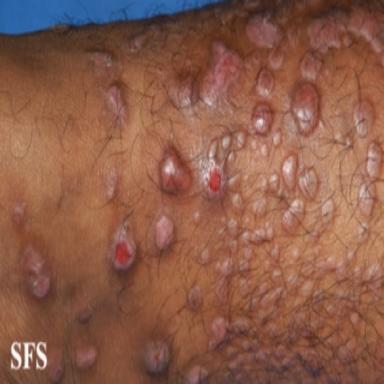Epidermolysis-Bullosa-Pruriginosa: (184, 138, 384, 382), (169, 41, 260, 108), (307, 7, 384, 66), (199, 130, 247, 199), (88, 50, 127, 127), (246, 8, 284, 69), (108, 215, 137, 270), (21, 246, 51, 298), (290, 82, 319, 135), (275, 1, 303, 48), (161, 150, 191, 192), (129, 24, 157, 54), (144, 342, 170, 374), (353, 101, 373, 136), (251, 104, 273, 135), (155, 215, 174, 250), (301, 53, 322, 80), (256, 69, 275, 98), (103, 166, 118, 201), (77, 347, 96, 369), (13, 201, 26, 225), (273, 130, 281, 146), (260, 144, 268, 157), (194, 211, 200, 223)
